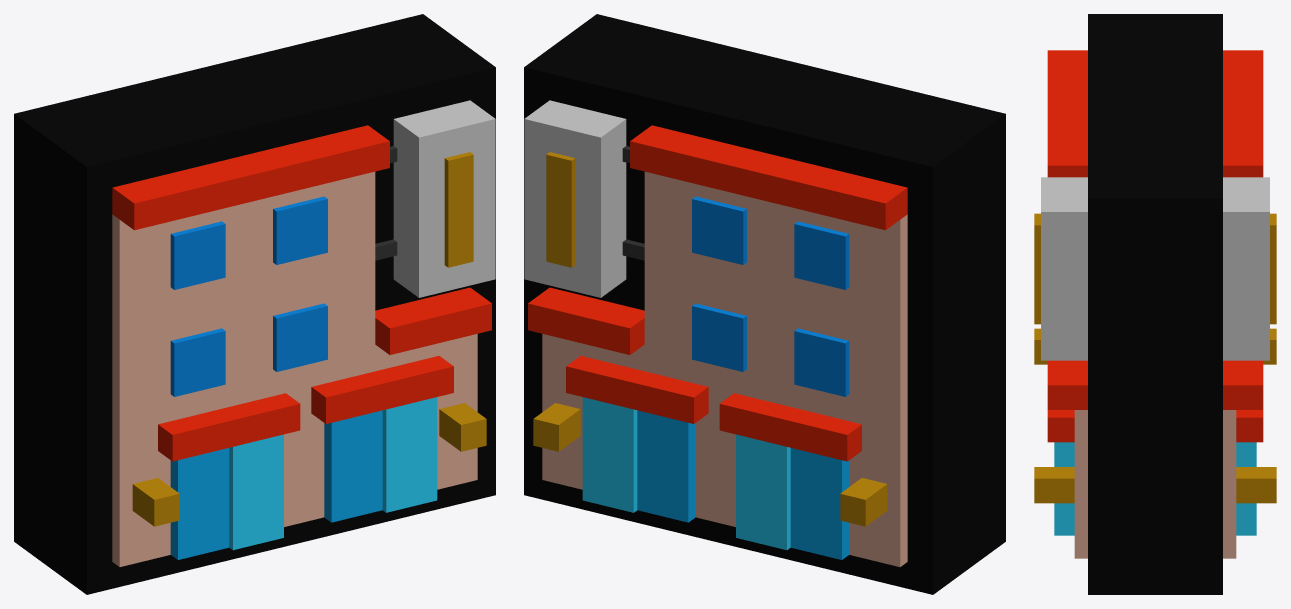
3 views of the same model, side by side, from view 1: azimuth 30°, elevation 25°; view 2: azimuth 150°, elevation 25°; view 3: azimuth 270°, elevation 25° (orthographic). The views are drawn at different scales.
Visible parts, largest first — view 1: U+1F3EC_layer00_obj00, U+1F3EC_layer02_obj00, U+1F3EC_layer06_obj00, U+1F3EC_layer07_obj00, U+1F3EC_layer03_obj00, U+1F3EC_layer04_obj00, U+1F3EC_layer05_obj00, U+1F3EC_layer08_obj00; view 2: U+1F3EC_layer00_obj00, U+1F3EC_layer02_obj00, U+1F3EC_layer06_obj00, U+1F3EC_layer07_obj00, U+1F3EC_layer03_obj00, U+1F3EC_layer04_obj00, U+1F3EC_layer05_obj00, U+1F3EC_layer08_obj00; view 3: U+1F3EC_layer00_obj00, U+1F3EC_layer07_obj00, U+1F3EC_layer06_obj00, U+1F3EC_layer08_obj00, U+1F3EC_layer02_obj00, U+1F3EC_layer05_obj00.
Part boxes in pixels (x1,y1,x2,y2): U+1F3EC_layer00_obj00: [14, 14, 495, 594]; U+1F3EC_layer02_obj00: [112, 171, 477, 566]; U+1F3EC_layer06_obj00: [112, 125, 491, 461]; U+1F3EC_layer07_obj00: [393, 100, 495, 297]; U+1F3EC_layer03_obj00: [170, 196, 327, 396]; U+1F3EC_layer04_obj00: [170, 410, 382, 559]; U+1F3EC_layer05_obj00: [229, 397, 437, 550]; U+1F3EC_layer08_obj00: [132, 152, 486, 526]; U+1F3EC_layer00_obj00: [524, 14, 1005, 594]; U+1F3EC_layer02_obj00: [542, 171, 907, 566]; U+1F3EC_layer06_obj00: [528, 125, 907, 461]; U+1F3EC_layer07_obj00: [524, 100, 626, 297]; U+1F3EC_layer03_obj00: [692, 196, 849, 396]; U+1F3EC_layer04_obj00: [637, 410, 849, 559]; U+1F3EC_layer05_obj00: [582, 397, 790, 550]; U+1F3EC_layer08_obj00: [533, 152, 887, 526]; U+1F3EC_layer00_obj00: [1088, 14, 1222, 594]; U+1F3EC_layer07_obj00: [1041, 177, 1269, 360]; U+1F3EC_layer06_obj00: [1047, 50, 1263, 442]; U+1F3EC_layer08_obj00: [1034, 213, 1276, 503]; U+1F3EC_layer02_obj00: [1074, 410, 1236, 558]; U+1F3EC_layer05_obj00: [1054, 442, 1256, 535].
Size of the model in its own units: 0.6491 by 0.649 by 0.36.
